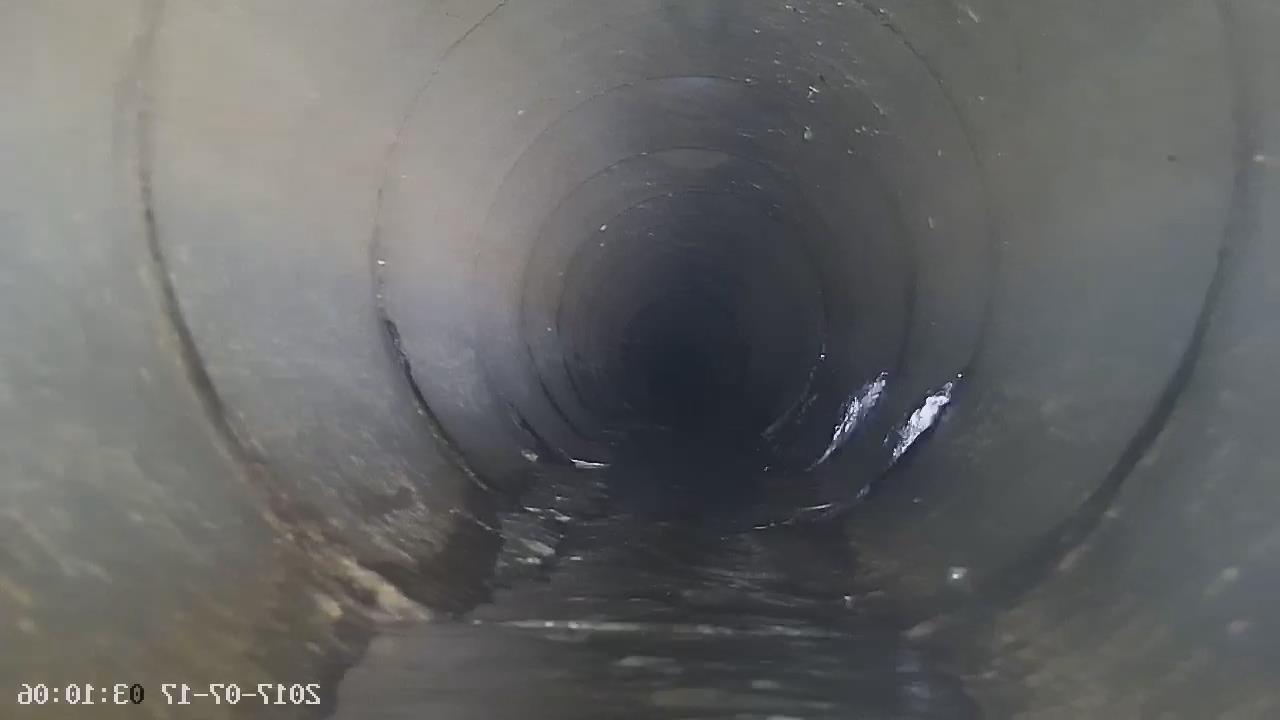SL: (806, 358, 975, 498)
